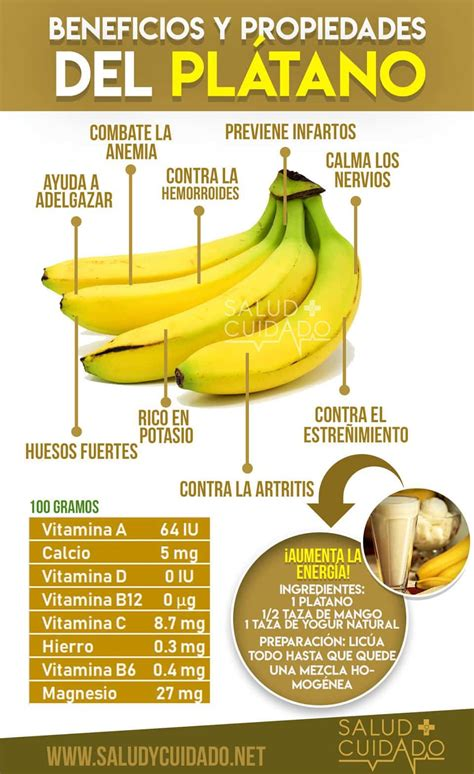banana: (80, 237, 319, 390), (176, 233, 364, 398), (54, 241, 272, 337), (35, 229, 255, 299)
